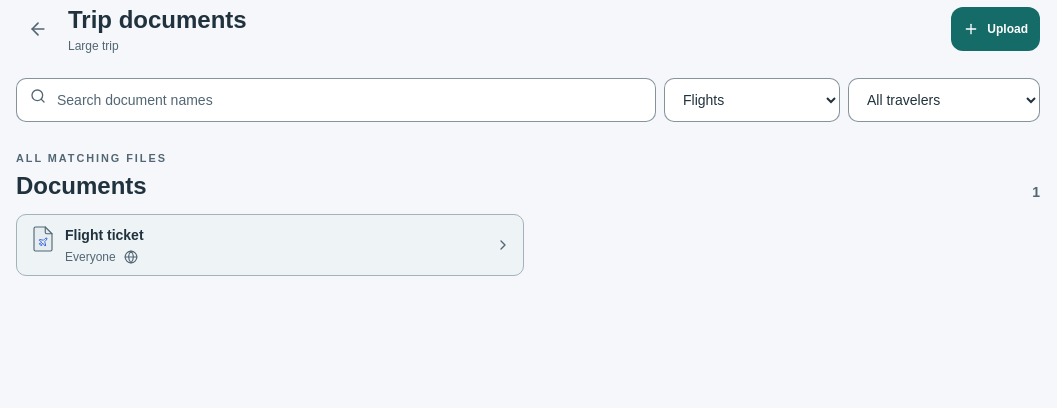
it: large trip collection pages › opens the category linked from trip details and lets the user clear it
Expected: the text "Flight ticket" is shown, [65,227,144,243]
Expected: the text "Hotel confirmation" is not shown
Select "All types" in the dropdown named "Filter documents by category" at (752, 100), box [664,78,840,122]
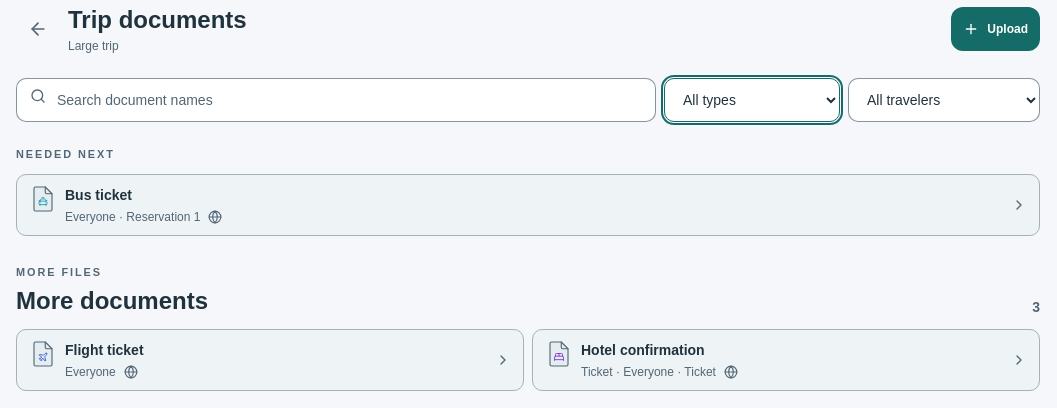
Result: the text "Hotel confirmation" is shown at [581,342,705,358]
Select "Buses" in the dropdown named "Filter documents by category" at (752, 100), box [664,78,840,122]
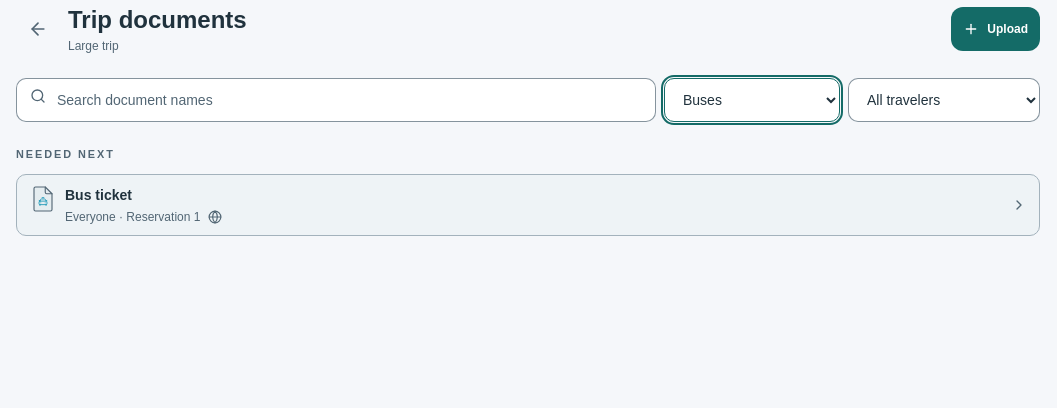
Result: the text "Bus ticket" is shown at [65,187,132,203]
Result: the link "Hotel confirmation" is gone
